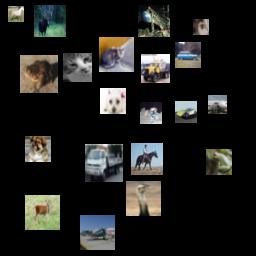airplane: (80, 215, 115, 250), (208, 95, 227, 114)
automobile: (175, 42, 201, 68), (175, 101, 197, 123)
bird: (126, 181, 161, 216)
cat: (99, 37, 134, 72), (63, 53, 92, 82)
deer: (25, 195, 60, 230), (34, 5, 66, 37)
dog: (25, 136, 51, 162), (100, 88, 126, 114), (140, 102, 162, 124), (193, 19, 209, 35)
frog: (20, 55, 58, 93), (138, 5, 170, 37), (206, 149, 232, 175)
truck: (85, 144, 123, 182), (141, 54, 170, 83)
